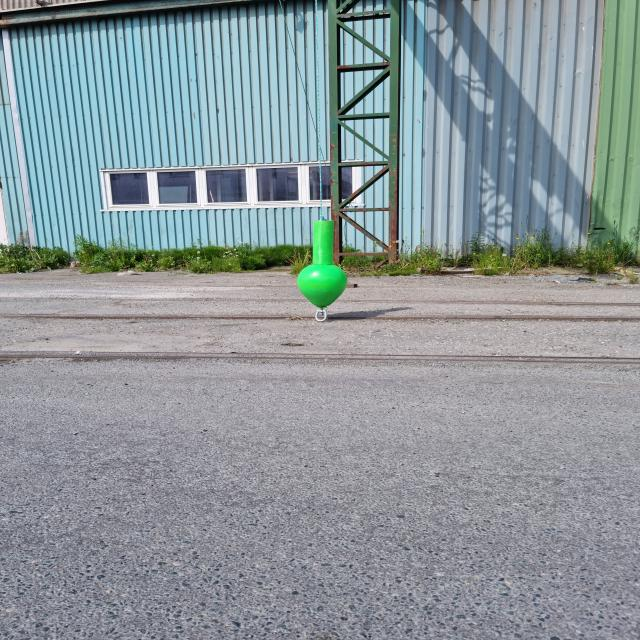green: (298, 219, 349, 308)
